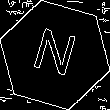N_S: (29, 26, 81, 84)
